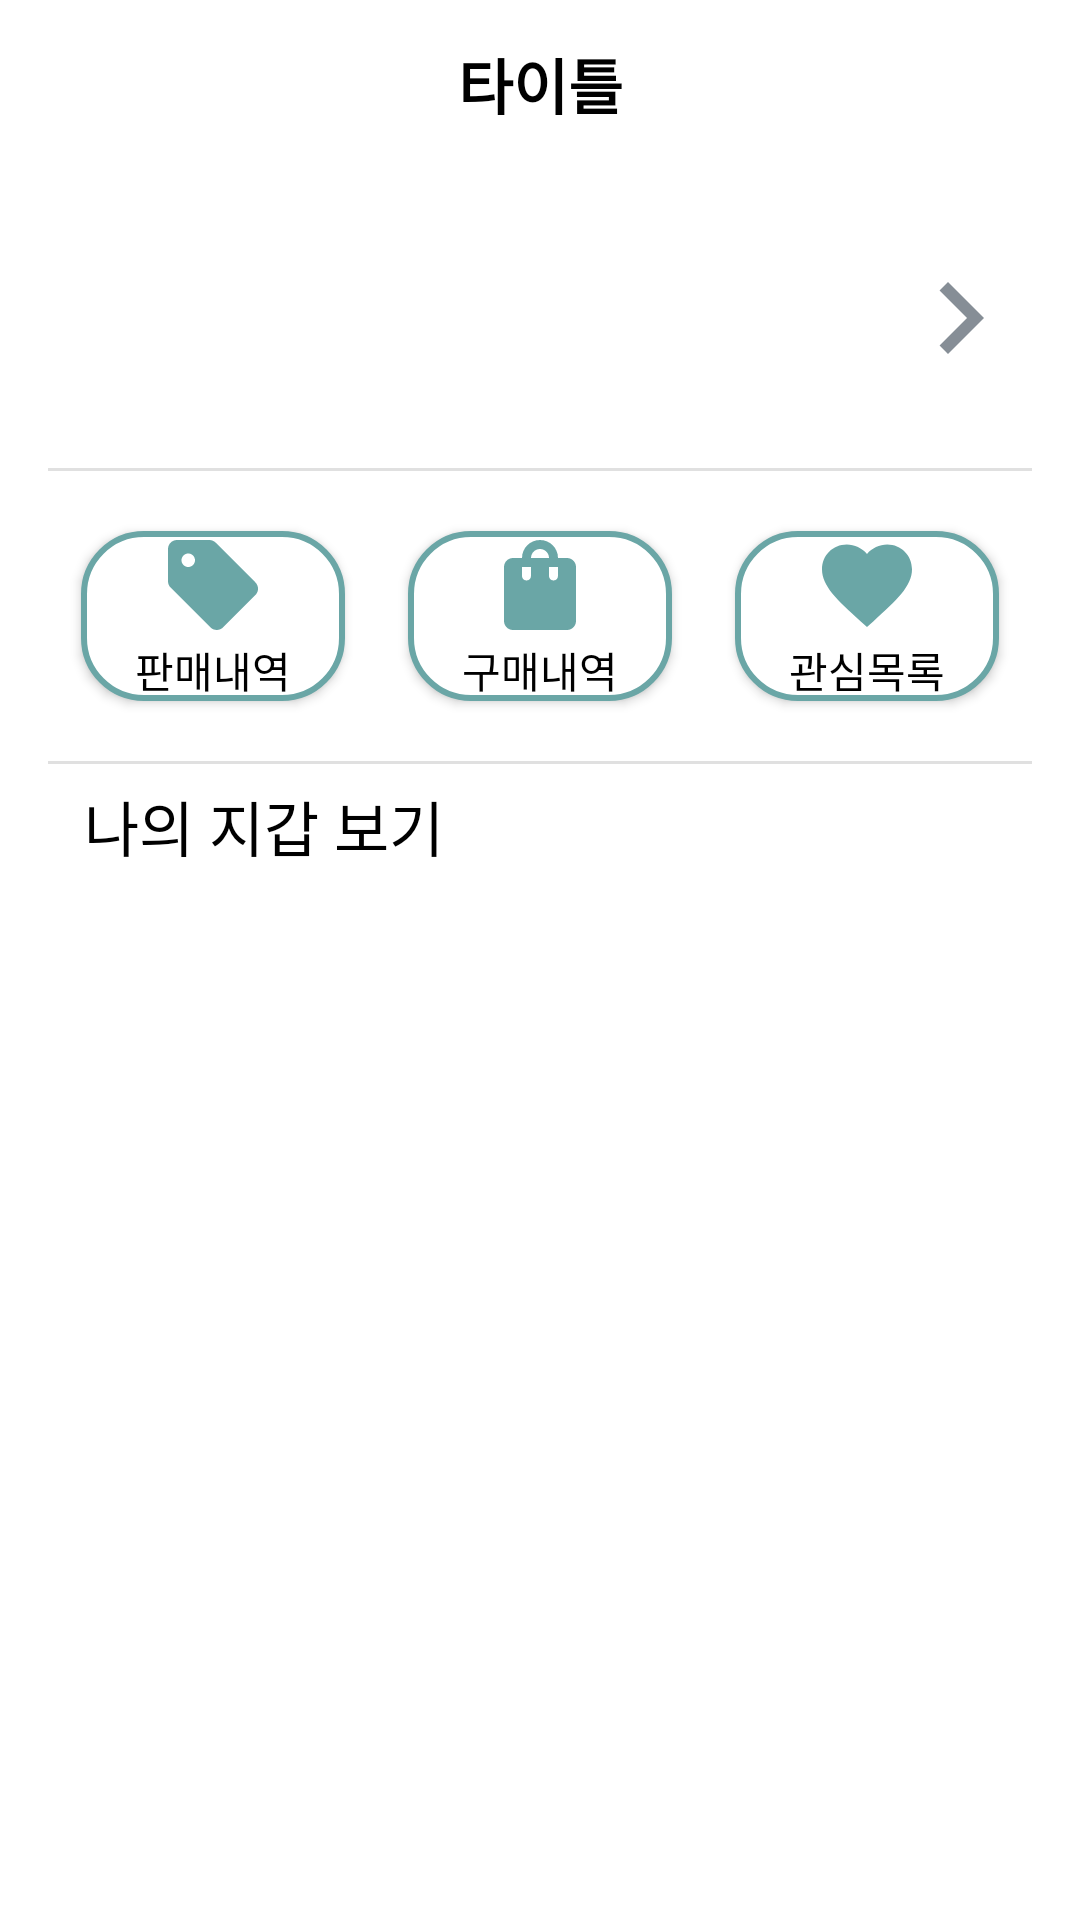

Where to tap for icons on this 1080 × 1920 app screen, as point (x, y):
select mark: point (962, 318)
